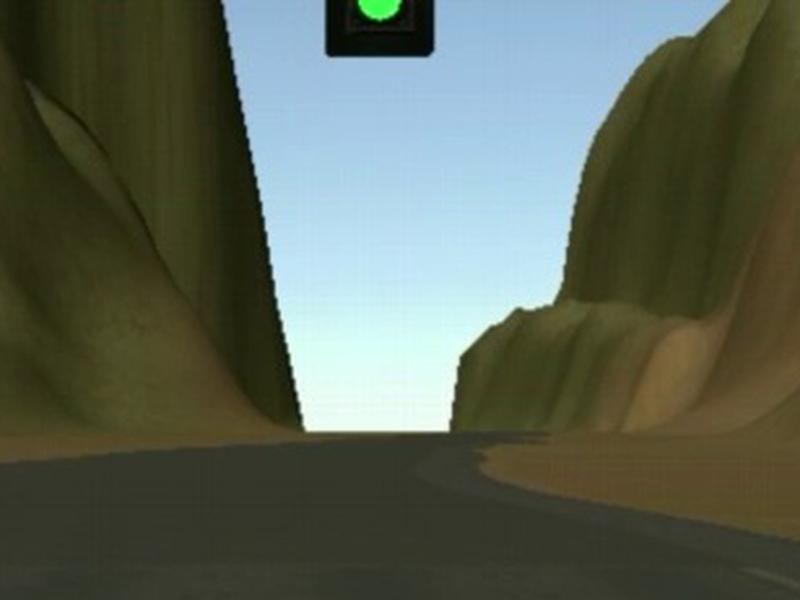Green: (325, 1, 434, 55)
